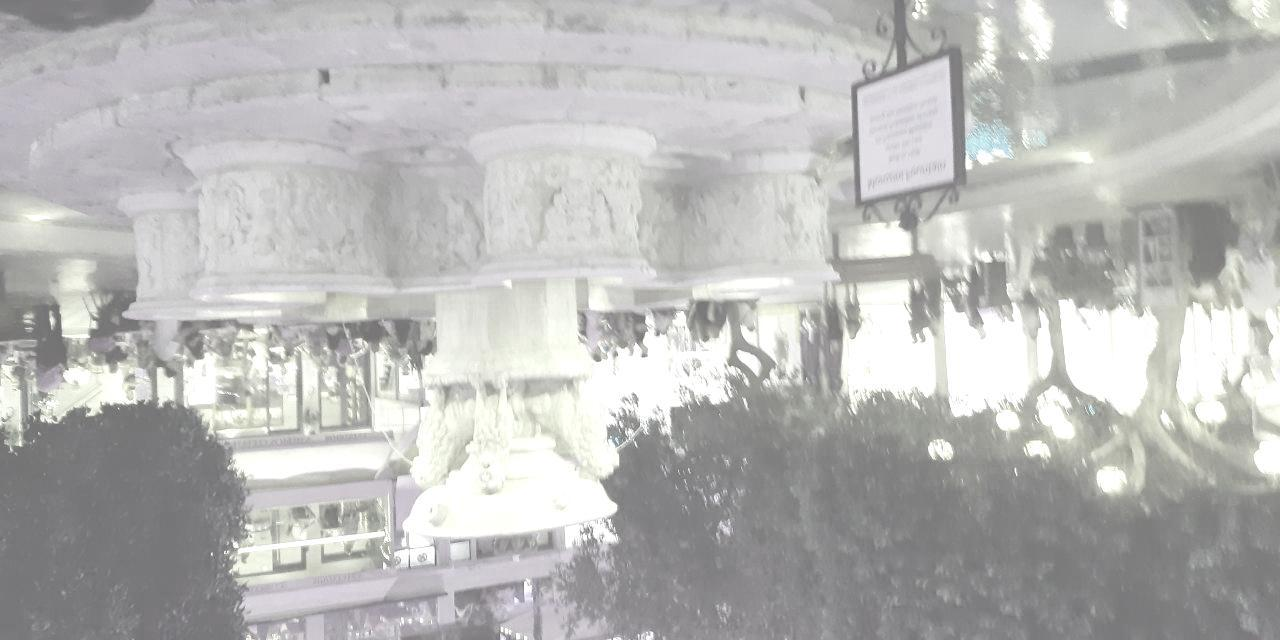Liontaria: (125, 124, 848, 549)
